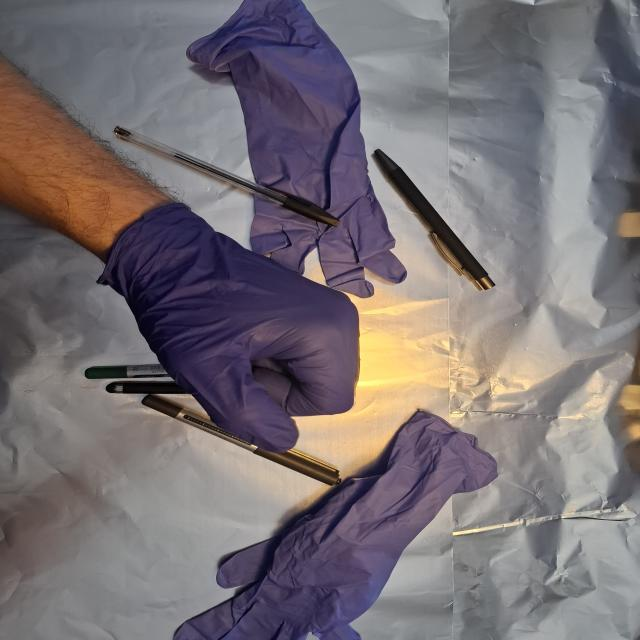glove_on: (95, 201, 364, 456)
